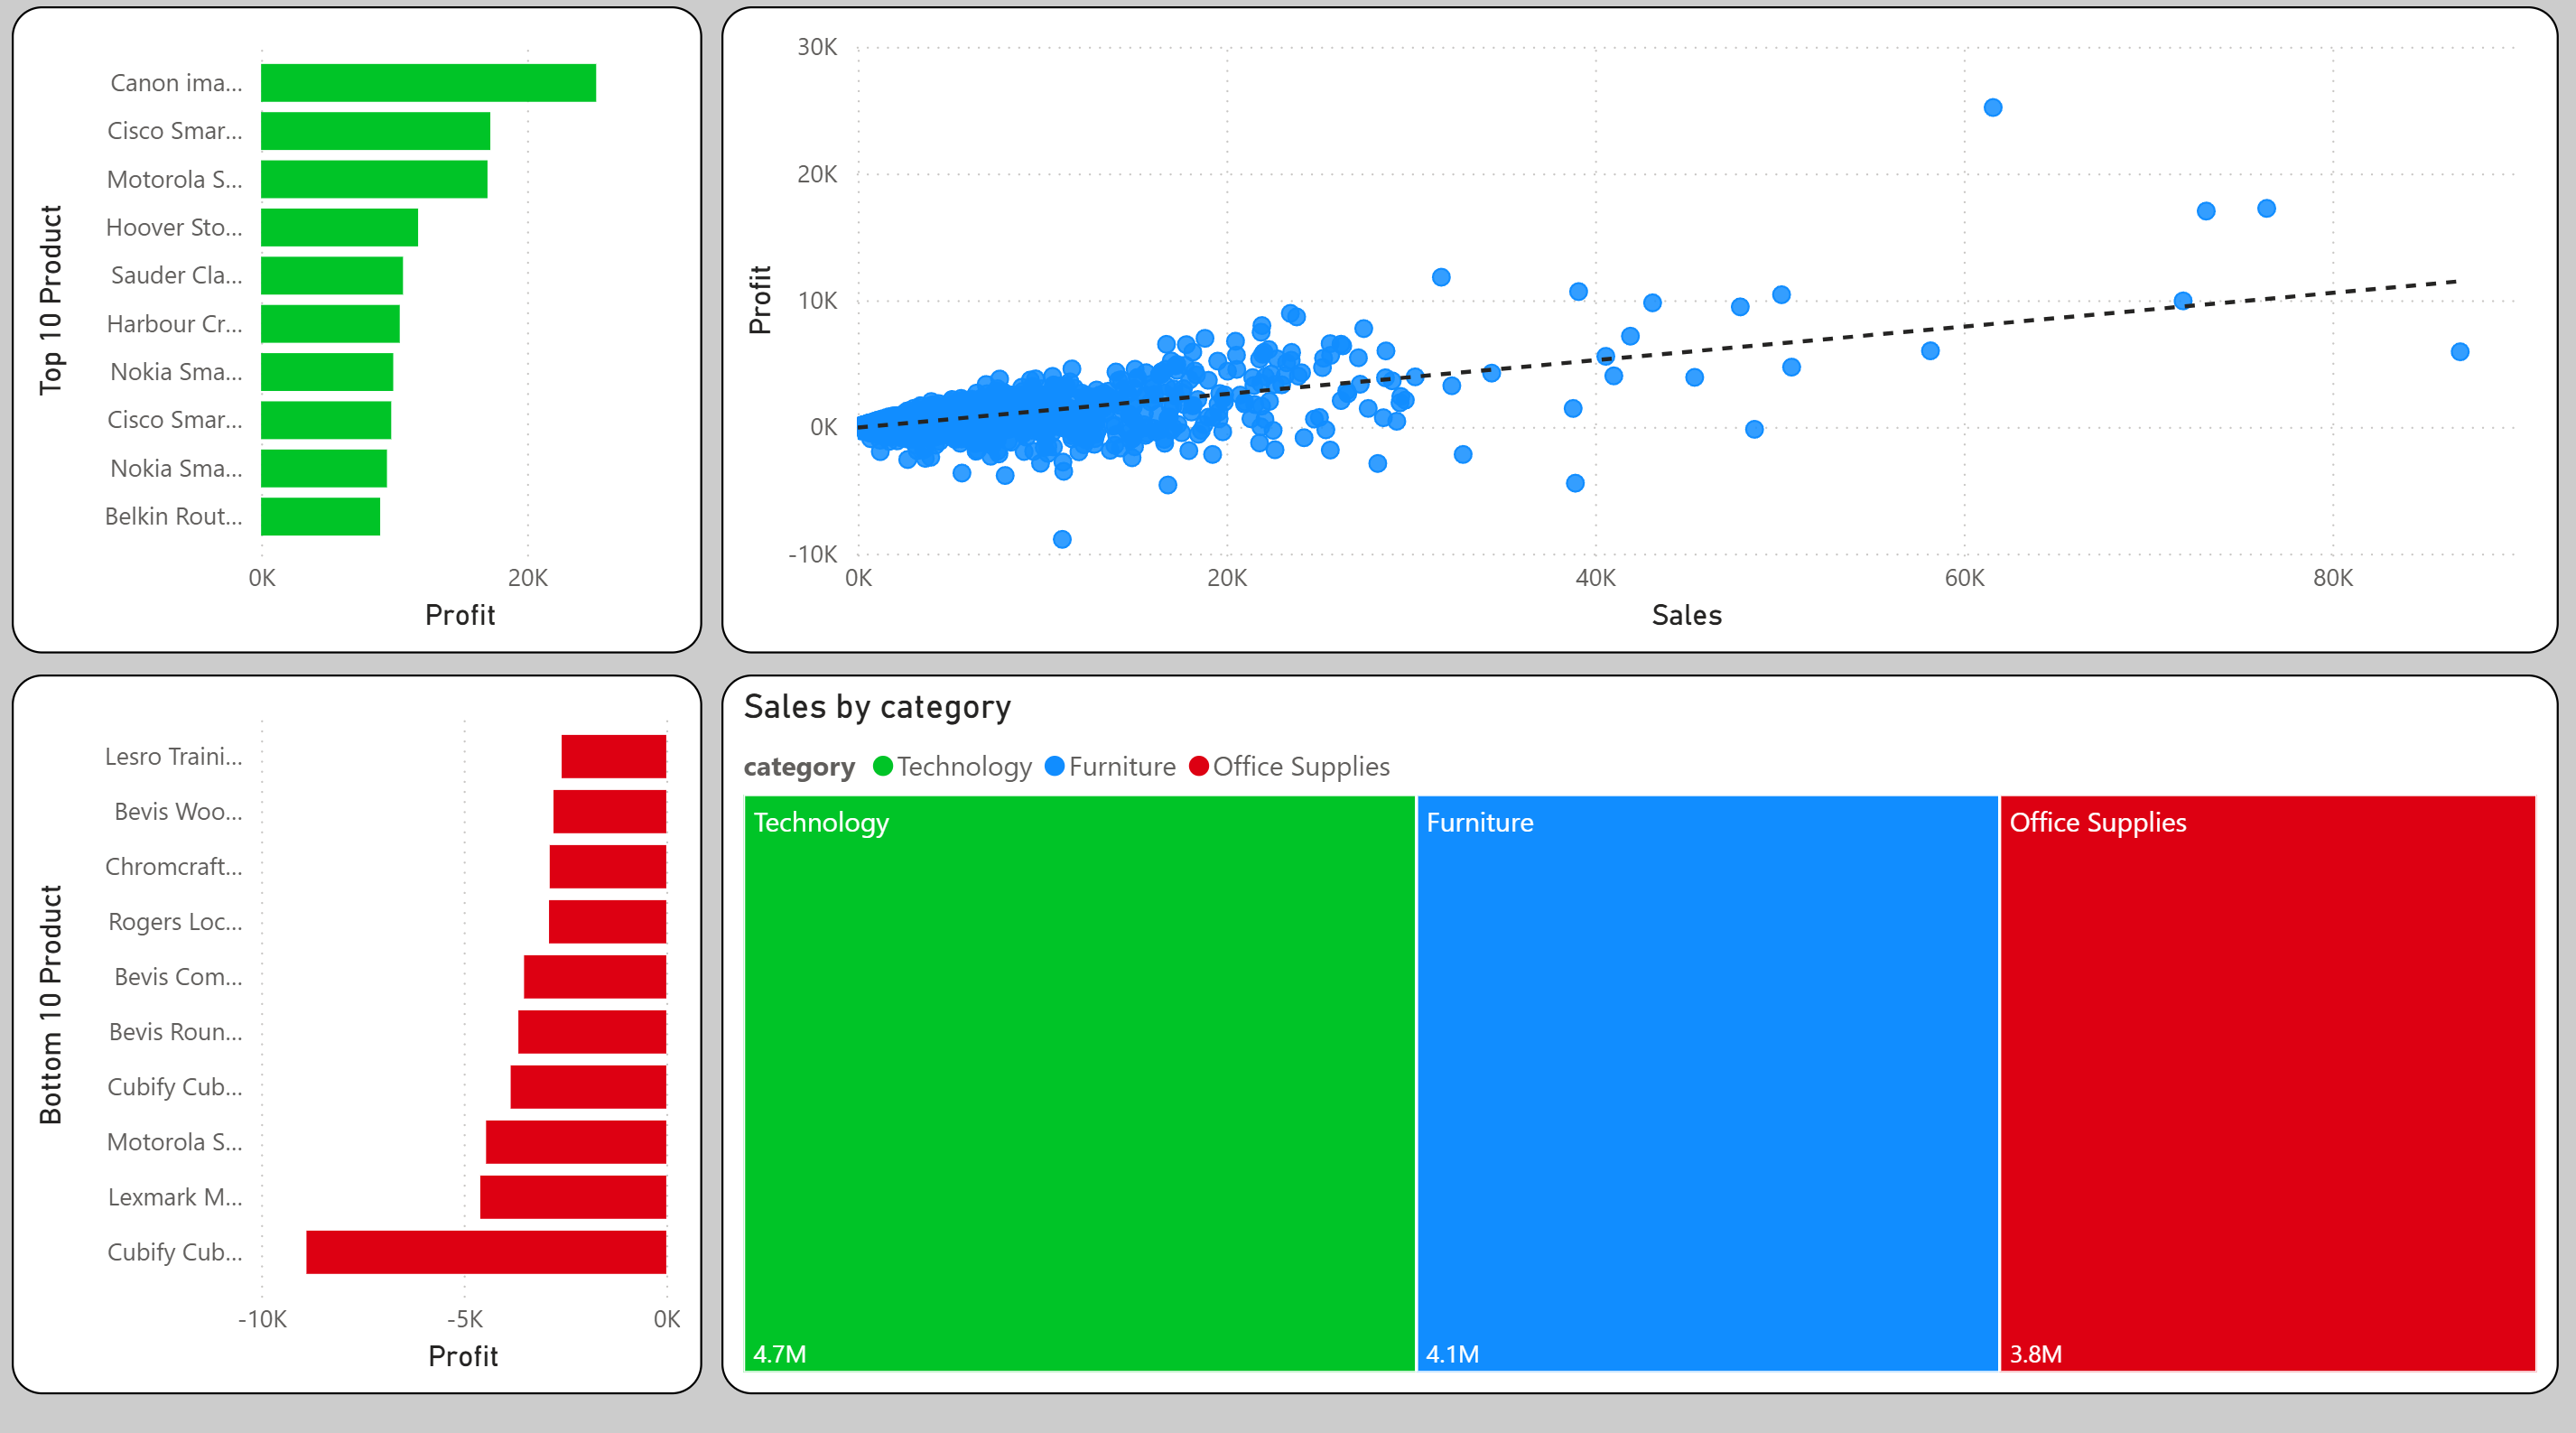

The dashboard page shown, as its layout file describes it:
{"tool":"powerbi","page":{"name":"Product Analysis","canvas":[1280,720],"ordinal":2},"visuals":[{"type":"clusteredBarChart","fields":{"Category":["SuperStoreOrders - SuperStoreOr.product_name"],"Y":["Sum(SuperStoreOrders - SuperStoreOr.profit)"]},"box":[10.3,12.3,342.1,320.5],"z":0},{"type":"clusteredBarChart","fields":{"Category":["SuperStoreOrders - SuperStoreOr.product_name"],"Y":["Sum(SuperStoreOrders - SuperStoreOr.profit)"]},"box":[10,343.1,342.2,356.7],"z":1000},{"type":"scatterChart","fields":{"X":["Sum(SuperStoreOrders - SuperStoreOr.sales)"],"Y":["Sum(SuperStoreOrders - SuperStoreOr.profit)"],"Category":["SuperStoreOrders - SuperStoreOr.product_name"]},"box":[361.6,12.3,910.2,320.5],"z":1001},{"type":"treemap","fields":{"Group":["SuperStoreOrders - SuperStoreOr.category"],"Values":["Sum(SuperStoreOrders - SuperStoreOr.sales)"]},"box":[361.6,343.1,910.2,356.5],"z":1002}]}

Visuals, with their boxes in screenshot pixels (x1, y1, x2, y2), scaled from the page's 1280x720 canvas onto the 2576x1433 screenshot:
clusteredBarChart - SuperStoreOrders - SuperStoreOr.product_name x Sum(SuperStoreOrders - SuperStoreOr.profit): 21 24 709 663
clusteredBarChart - SuperStoreOrders - SuperStoreOr.product_name x Sum(SuperStoreOrders - SuperStoreOr.profit): 20 683 709 1392
scatterChart - Sum(SuperStoreOrders - SuperStoreOr.sales) x Sum(SuperStoreOrders - SuperStoreOr.profit): 728 24 2560 663
treemap - SuperStoreOrders - SuperStoreOr.category x Sum(SuperStoreOrders - SuperStoreOr.sales): 728 683 2560 1392
